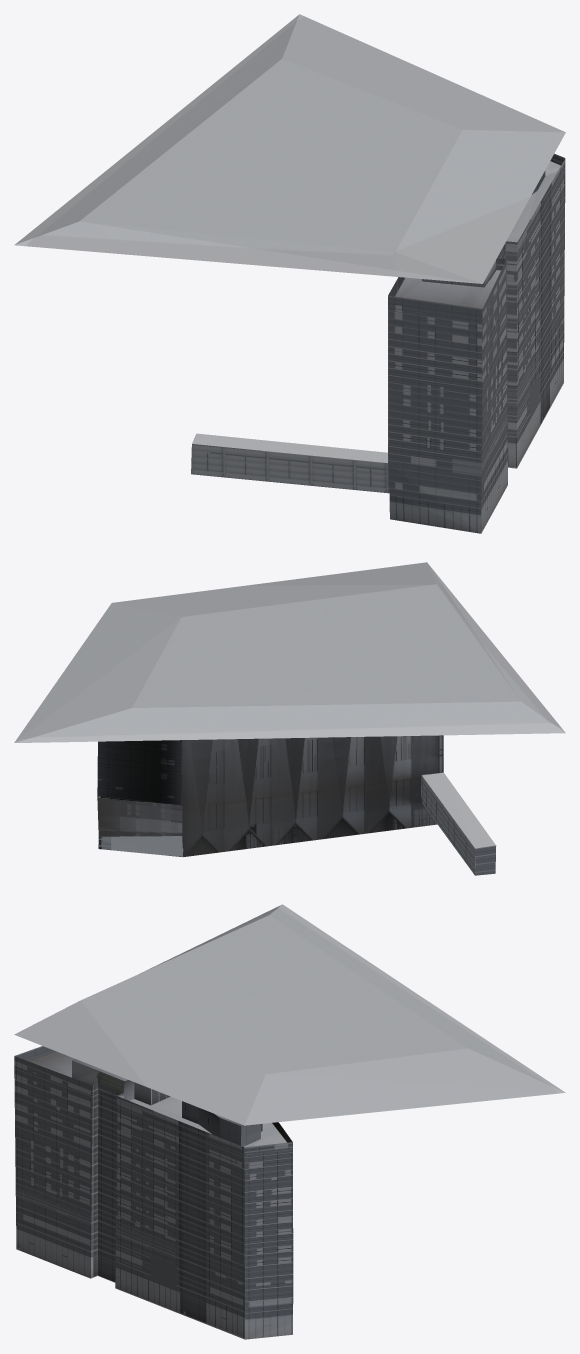
File: Kafd_Base_LocationTOWER-A.glb
3 renders of one model, top to bottom at view 1: azimuth 30°, elevation 25°; view 2: azimuth 150°, elevation 25°; view 3: azimuth 270°, elevation 25°, orthographic. The views are drawn at different scales.
Visible parts, largest first — view 1: 2.07-A.001; view 2: 2.07-A.001; view 3: 2.07-A.001.
Part boxes in pixels (x1=…): 2.07-A.001: x1=14, y1=14, x2=565, y2=533; 2.07-A.001: x1=14, y1=562, x2=565, y2=875; 2.07-A.001: x1=14, y1=904, x2=565, y2=1339.
Bounding box in the file's own units: 115 × 55.48 × 122.
Materials: 1 (1 with a texture image).
